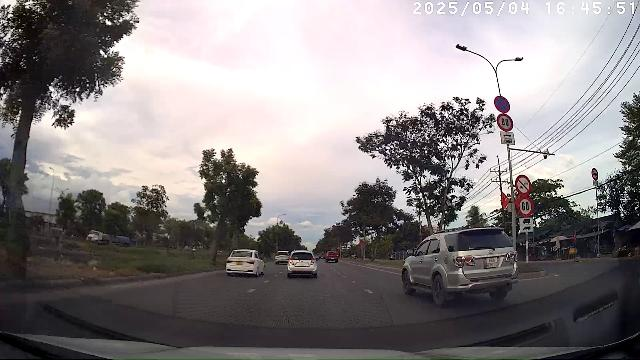127-toc-do-toi-da-60: (517, 196, 534, 217)
127-toc-do-toi-da-80: (497, 113, 514, 131)
130-cam-dung-va-do-xe: (494, 96, 512, 113)
